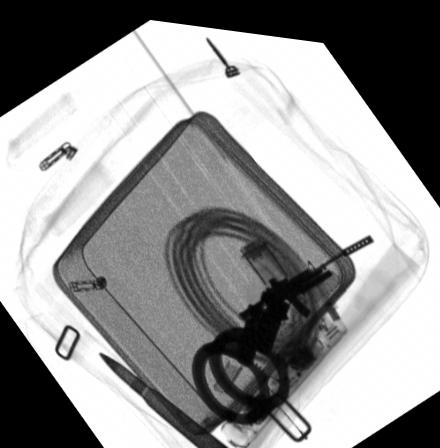Baton: (219, 298, 347, 441)
Bullet: (96, 345, 235, 448)
Gun: (235, 224, 374, 318)
HandCuffs: (188, 290, 289, 419)
